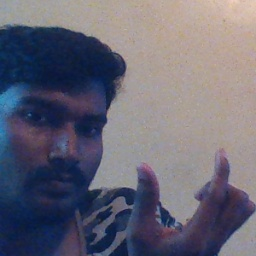U: (124, 142, 253, 256)
